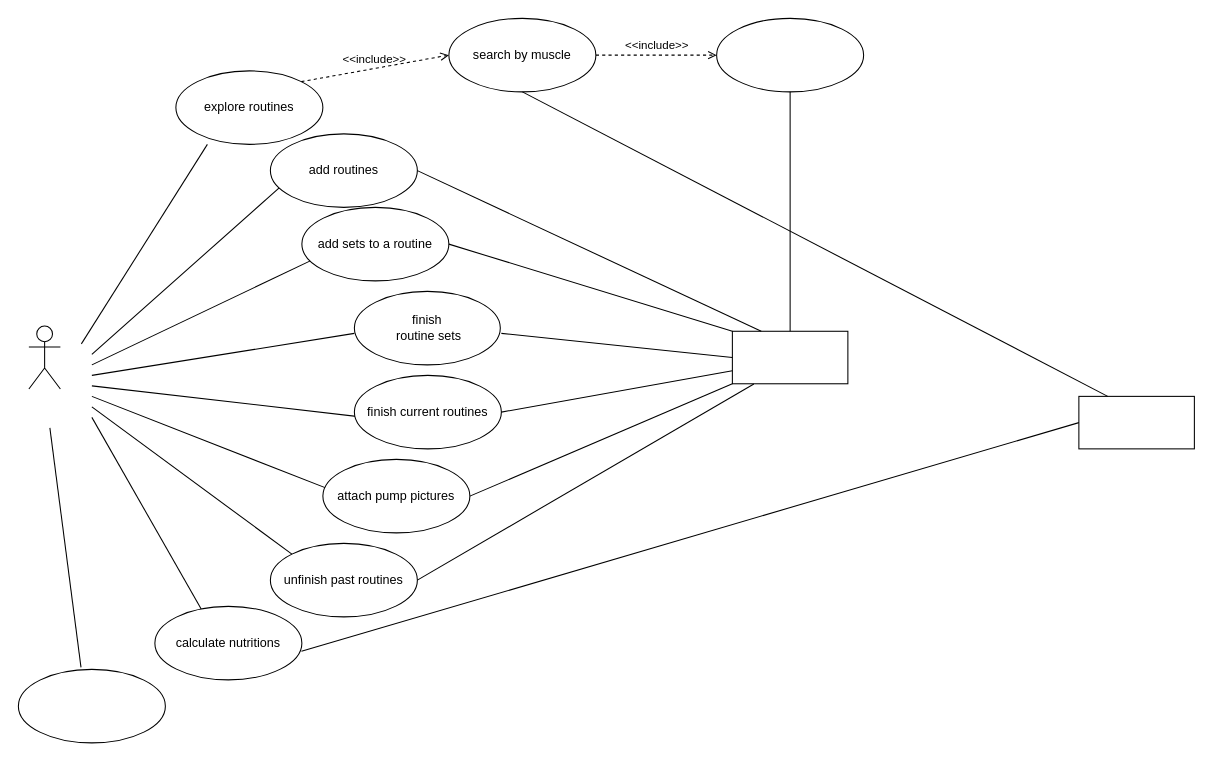
This 1213x761 diagram has some shape labels left out. The shapes that lost their labels are listed below. From the top down, each one's centre as x and y in pixels, then its label:
At (x=790, y=54): "select exercises".
At (x=44, y=357): "Actor".
At (x=789, y=357): "system".
At (x=1136, y=422): "ningasAPI".
At (x=91, y=705): "cancel order".
